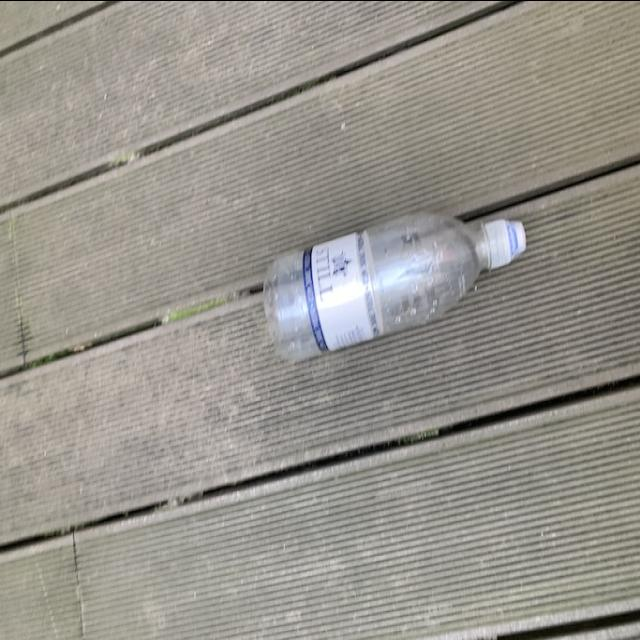litter: (258, 208, 532, 368)
